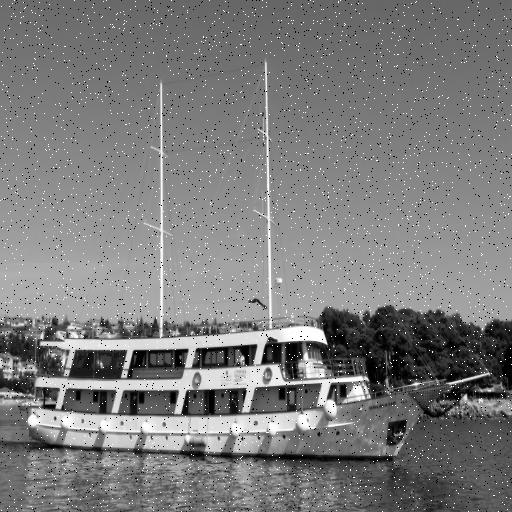cruises: (26, 278, 494, 470)
